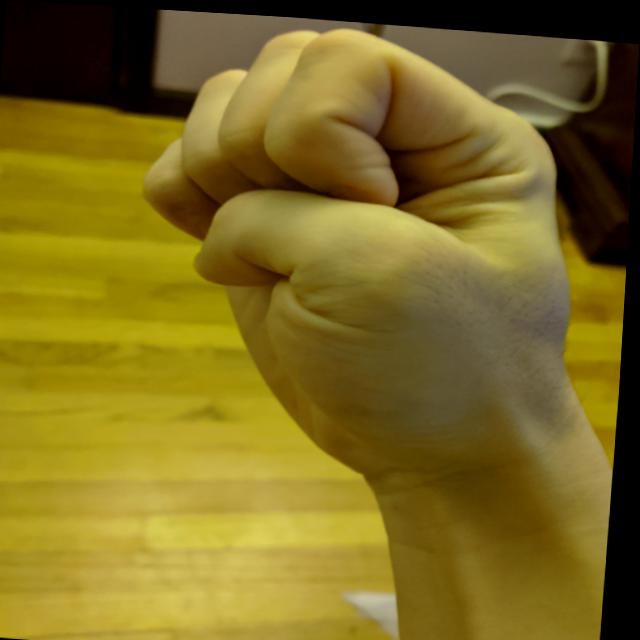E: (116, 6, 607, 498)
